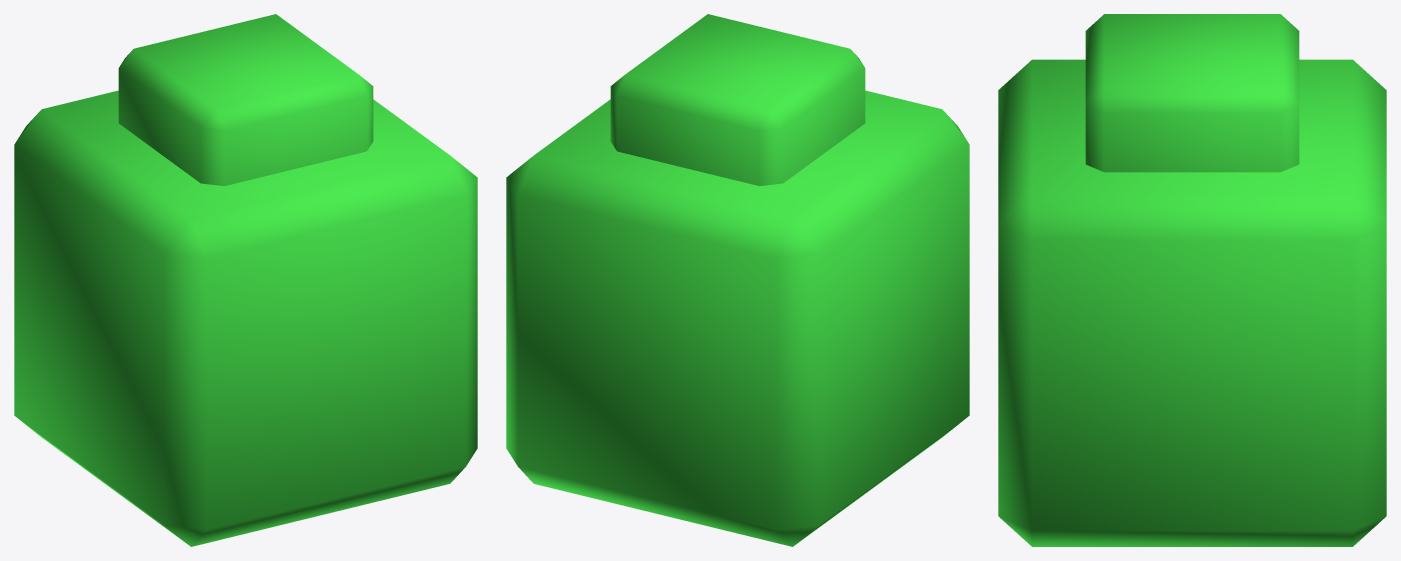
The model's file is brush_2_normal.fbx.
3 views of the same model, side by side, from view 1: azimuth 30°, elevation 25°; view 2: azimuth 150°, elevation 25°; view 3: azimuth 270°, elevation 25° (orthographic). The views are drawn at different scales.
Parts seen in each view (by area): view 1: bush; view 2: bush; view 3: bush.
Boxes of the visible parts, left/top/right/bottom form: bush: left=14, top=14, right=477, bottom=546; bush: left=506, top=14, right=969, bottom=546; bush: left=998, top=14, right=1386, bottom=546.
Size of the model in its own units: 231 by 281 by 231.
